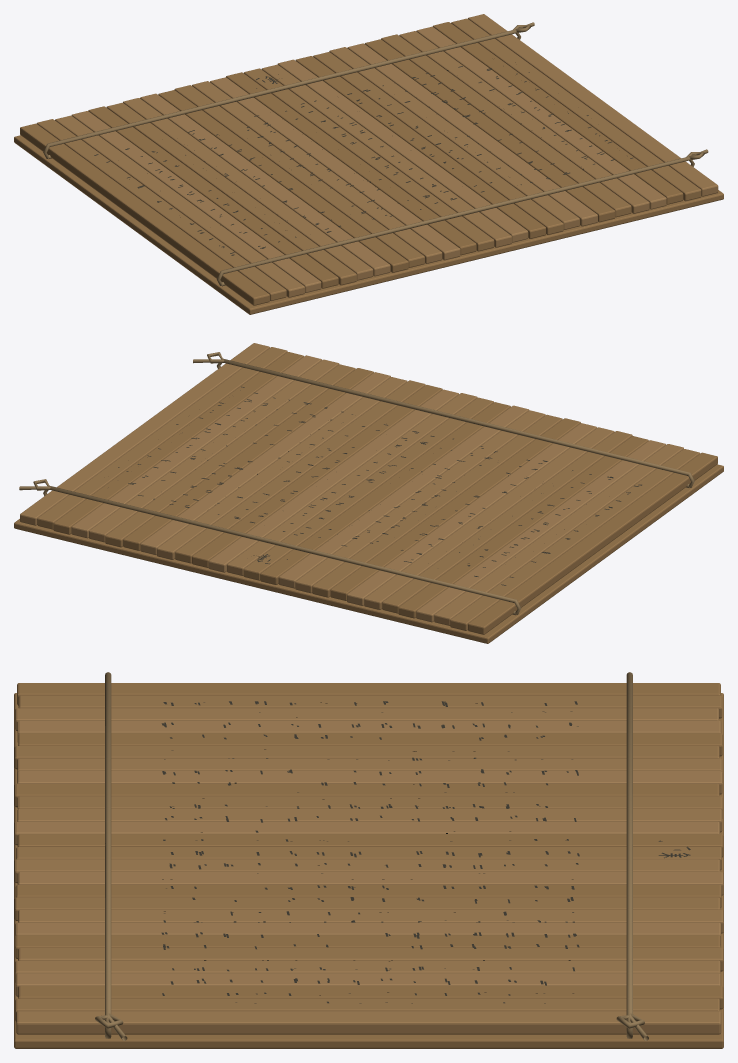
The model's file is HouseholdRegistryRefined.glb.
3 renders of one model, top to bottom at view 1: azimuth 30°, elevation 25°; view 2: azimuth 150°, elevation 25°; view 3: azimuth 270°, elevation 25°, orthographic. The views are drawn at different scales.
Visible parts, largest first — view 1: HouseholdRegistryRefined; view 2: HouseholdRegistryRefined; view 3: HouseholdRegistryRefined.
Boxes of the visible parts, x1,y1,x2,y2 form: HouseholdRegistryRefined: (14, 14, 723, 314); HouseholdRegistryRefined: (14, 343, 723, 643); HouseholdRegistryRefined: (14, 672, 723, 1048).
Size of the model in its own units: 0.4158 by 0.0188 by 0.343.
